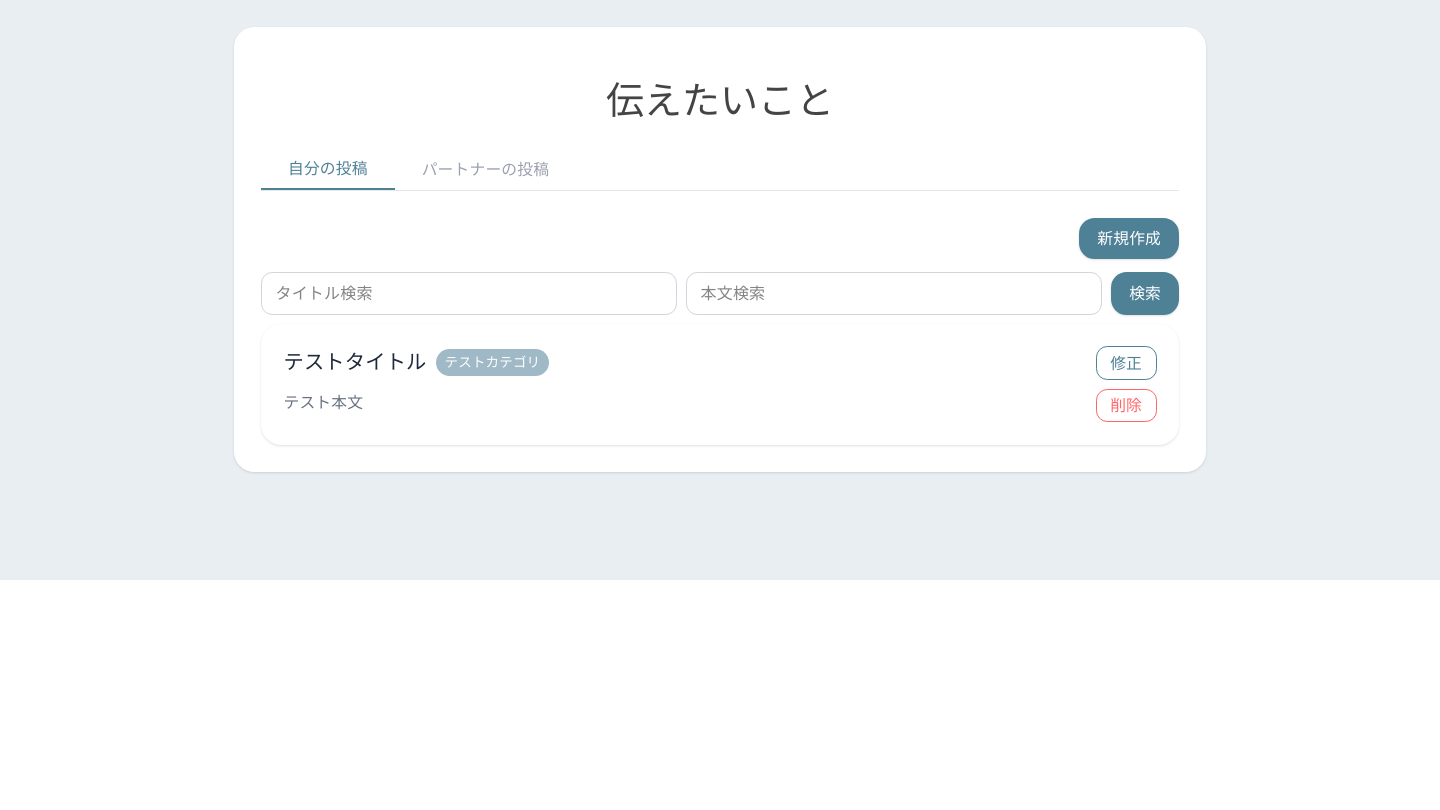
PostList › 自分の投稿タブ › 削除ボタンをクリックすると正しいIDでAPIが呼ばれ投稿が消える
Expected: the text "テストタイトル" is shown, [284,346,426,378]
Step 1. Click the button "削除" → (1126, 406), box [1096,389,1156,422]
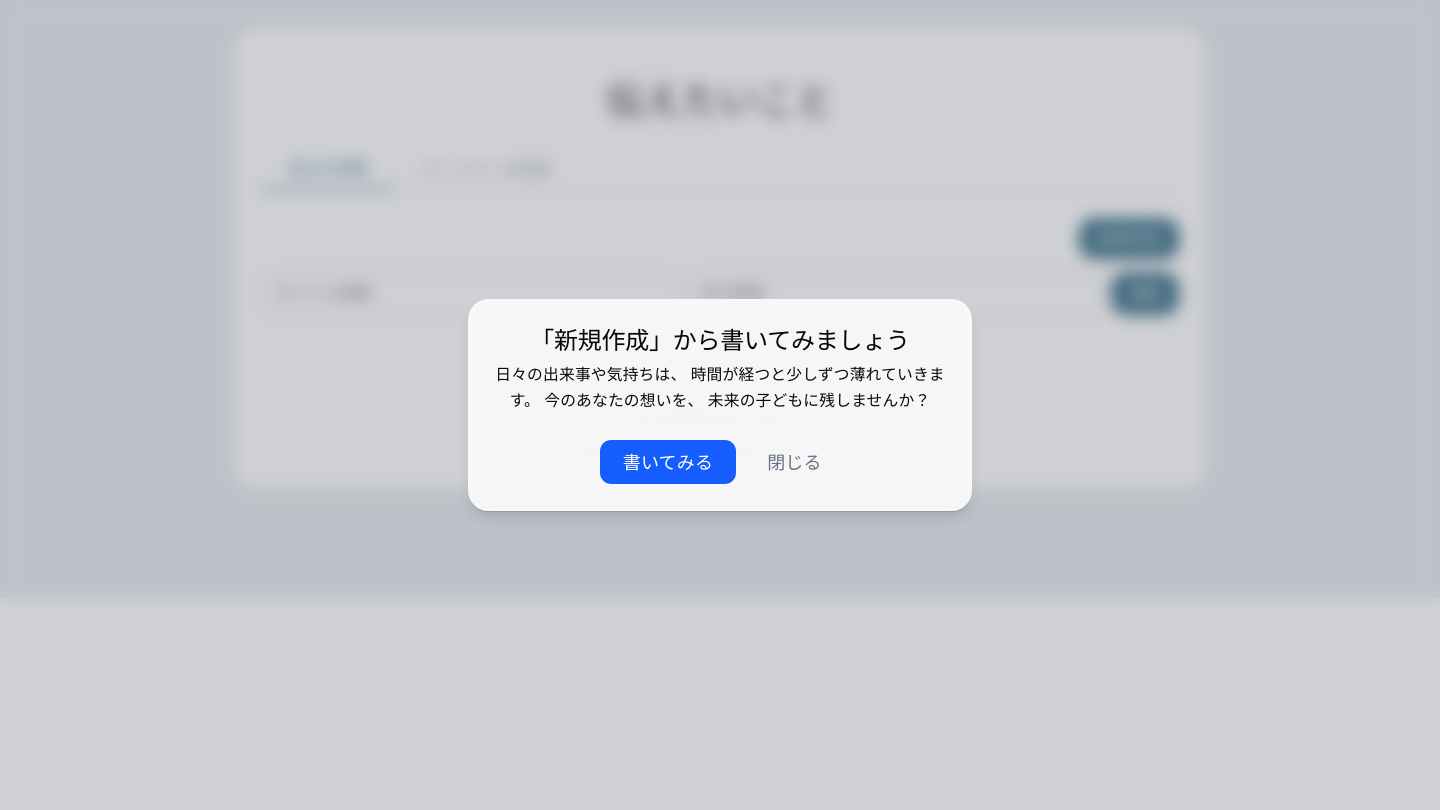
Expected: the text "テストタイトル" is gone
